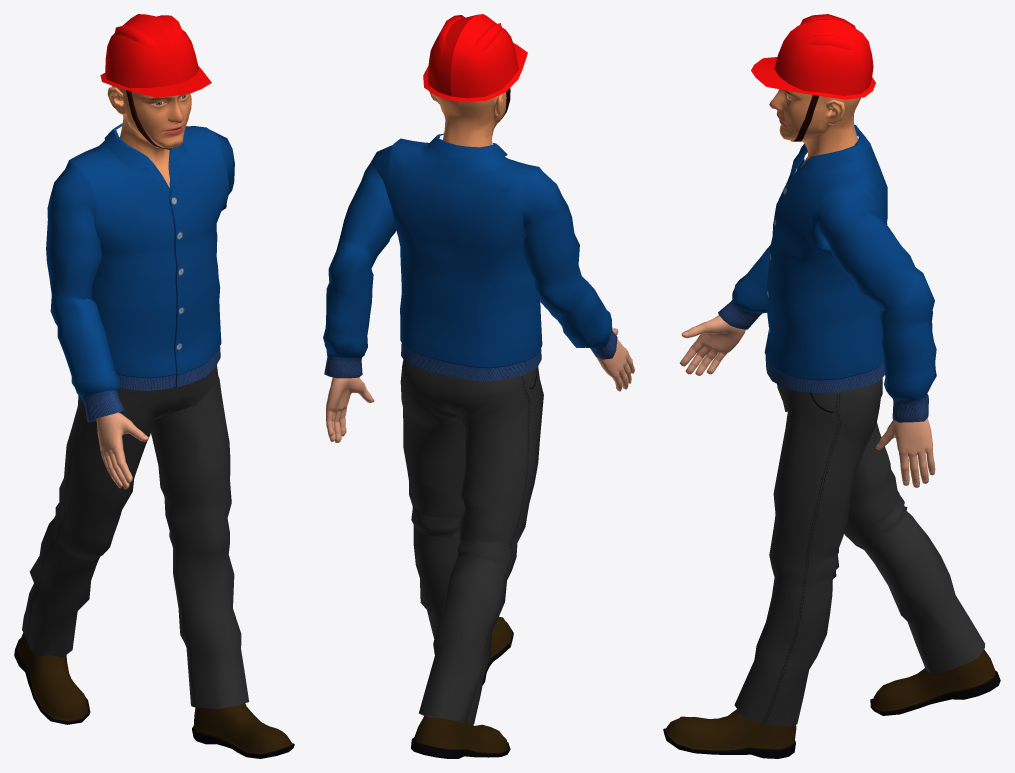
File: EQ_People.glb
3 views of the same model, side by side, from view 1: azimuth 30°, elevation 25°; view 2: azimuth 150°, elevation 25°; view 3: azimuth 270°, elevation 25° (orthographic). The views are drawn at different scales.
Parts seen in each view (by area): view 1: Ren; view 2: Ren; view 3: Ren.
Boxes of the visible parts, x1,y1,x2,y2 form: Ren: [14, 14, 294, 758]; Ren: [323, 14, 634, 758]; Ren: [663, 14, 1000, 758].
Bounding box in the file's own units: 0.5459 × 1.72 × 0.739.
7 materials, 7 textured.
